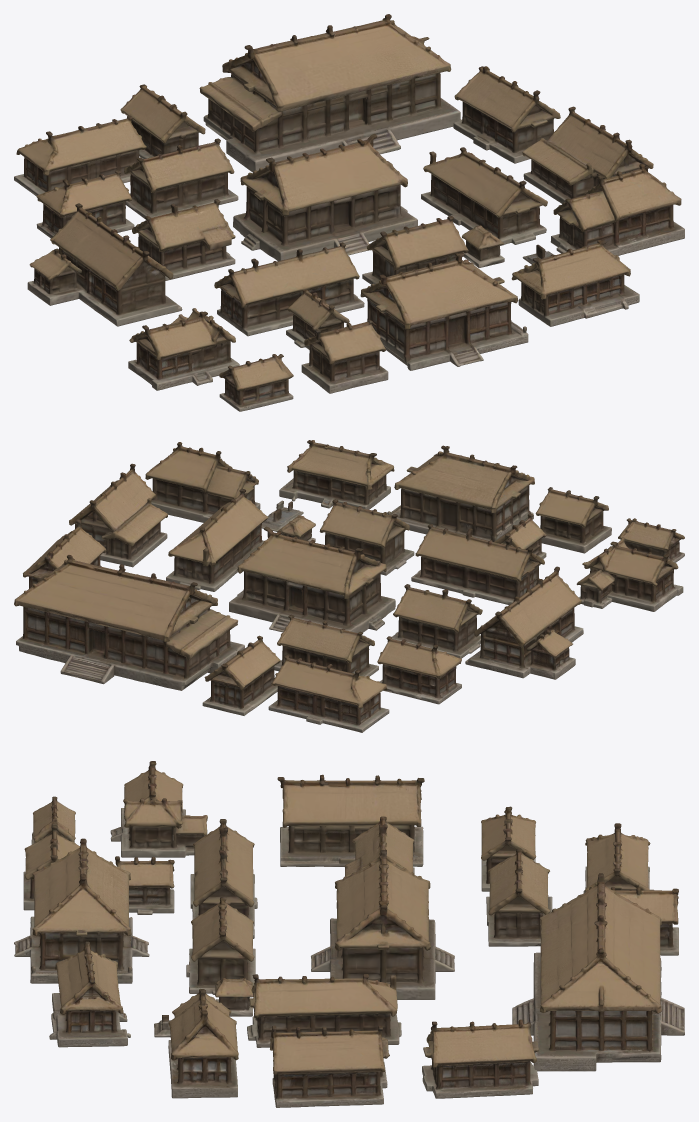
File: Ancient Town (East Asian).fbx
The picture shows the model from 3 angles, top to bottom: view 1: azimuth 30°, elevation 25°; view 2: azimuth 150°, elevation 25°; view 3: azimuth 270°, elevation 25°; orthographic projection. The views are drawn at different scales.
Parts seen in each view (by area): view 1: tripo_node_af77bf5f; view 2: tripo_node_af77bf5f; view 3: tripo_node_af77bf5f.
Boxes of the visible parts, bbox=[...] form: tripo_node_af77bf5f: bbox=[14, 14, 684, 411]; tripo_node_af77bf5f: bbox=[14, 440, 684, 732]; tripo_node_af77bf5f: bbox=[14, 761, 684, 1107].
Size of the model in its own units: 1 by 0.1684 by 0.9677.
